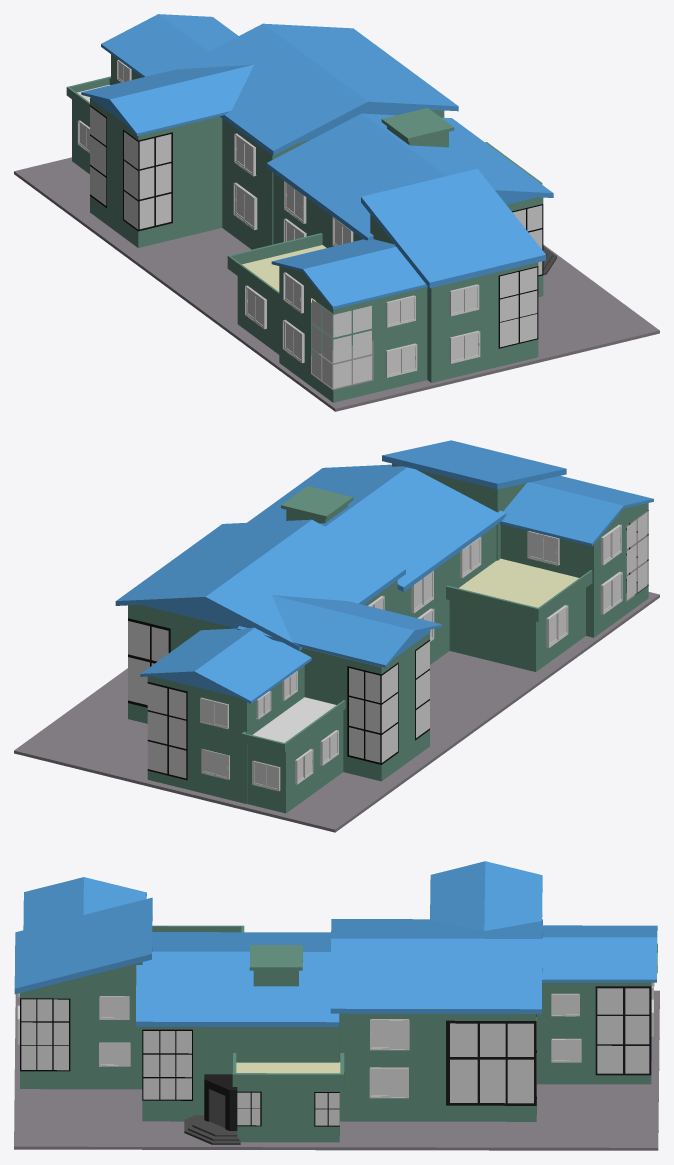
Rendered from IEAen3Dgazebo.dae.
3 renders of one model, top to bottom at view 1: azimuth 30°, elevation 25°; view 2: azimuth 150°, elevation 25°; view 3: azimuth 270°, elevation 25°, orthographic.
Parts seen in each view (by area): view 1: Plano.019; view 2: Plano.019; view 3: Plano.019.
Boxes of the visible parts, x1,y1,x2,y2 form: Plano.019: [14, 14, 659, 411]; Plano.019: [14, 440, 659, 832]; Plano.019: [14, 861, 659, 1150].
Bounding box in the file's own units: 28.29 × 48.76 × 12.22.
